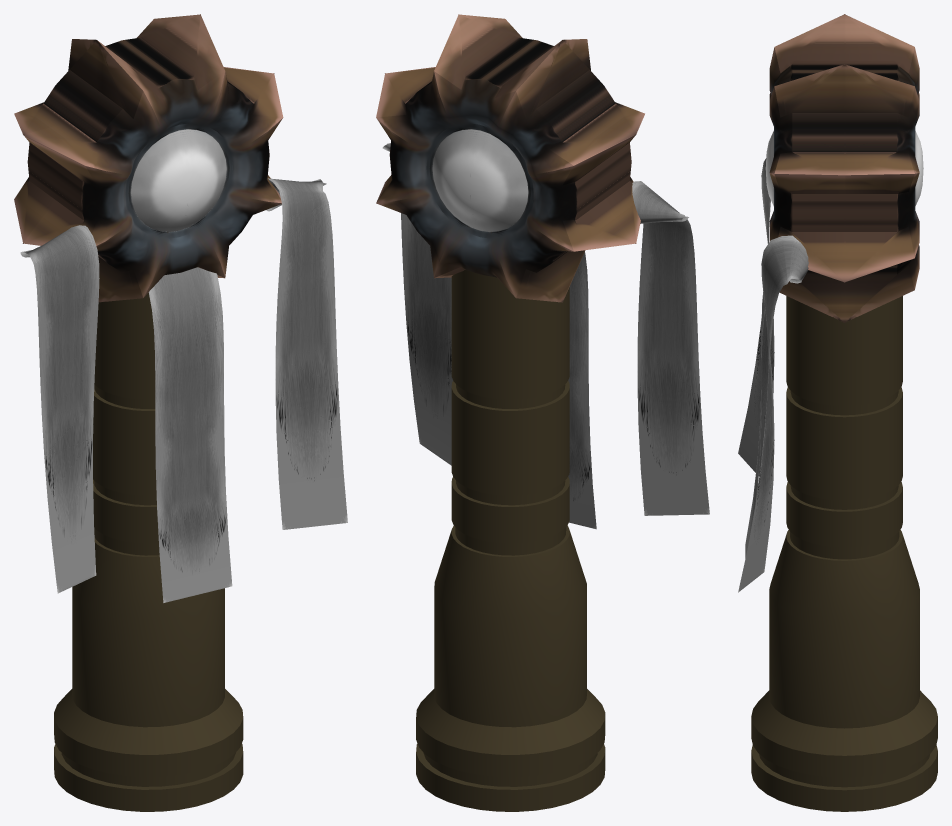
Rendered from pillarOLD.fbx.
The picture shows the model from 3 angles, left to right: view 1: azimuth 30°, elevation 25°; view 2: azimuth 150°, elevation 25°; view 3: azimuth 270°, elevation 25°; orthographic projection.
Parts seen in each view (by area): view 1: pillar, Circle.010, BezierCurve.005, BezierCurve.006; view 2: pillar, Circle.010, BezierCurve.005, BezierCurve.006; view 3: pillar, Circle.010, BezierCurve.005, BezierCurve.006.
Boxes of the visible parts, <box> form: pillar: <box>54,292,243,811</box>; Circle.010: <box>14,14,283,302</box>; BezierCurve.005: <box>20,178,347,593</box>; BezierCurve.006: <box>148,267,232,602</box>; pillar: <box>416,270,605,811</box>; Circle.010: <box>376,14,644,302</box>; BezierCurve.005: <box>382,143,709,515</box>; BezierCurve.006: <box>568,252,596,529</box>; pillar: <box>751,296,937,811</box>; Circle.010: <box>765,14,923,322</box>; BezierCurve.005: <box>738,158,808,592</box>; BezierCurve.006: <box>745,292,765,558</box>.
Size of the model in its own units: 159 by 374 by 92.43.
